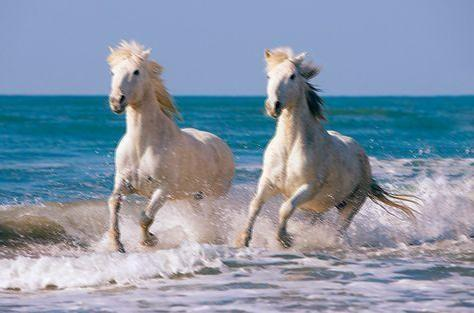horse: (236, 45, 424, 248), (105, 38, 235, 252)
